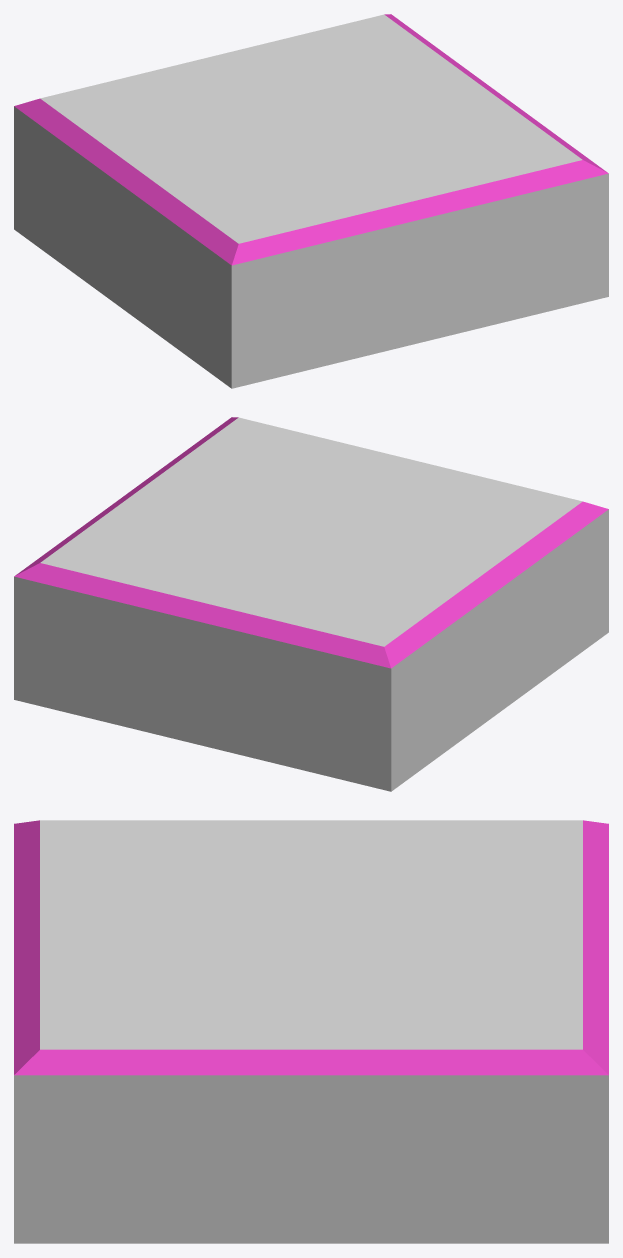
Rendered from tilepruebapiso.fbx.
3 renders of one model, top to bottom at view 1: azimuth 30°, elevation 25°; view 2: azimuth 150°, elevation 25°; view 3: azimuth 270°, elevation 25°, orthographic. The views are drawn at different scales.
Parts seen in each view (by area): view 1: Cube; view 2: Cube; view 3: Cube.
Boxes of the visible parts, left/top/right/bottom form: Cube: left=14, top=14, right=608, bottom=388; Cube: left=14, top=417, right=608, bottom=791; Cube: left=14, top=820, right=608, bottom=1243.
Size of the model in its own units: 1 by 0.3393 by 1.
